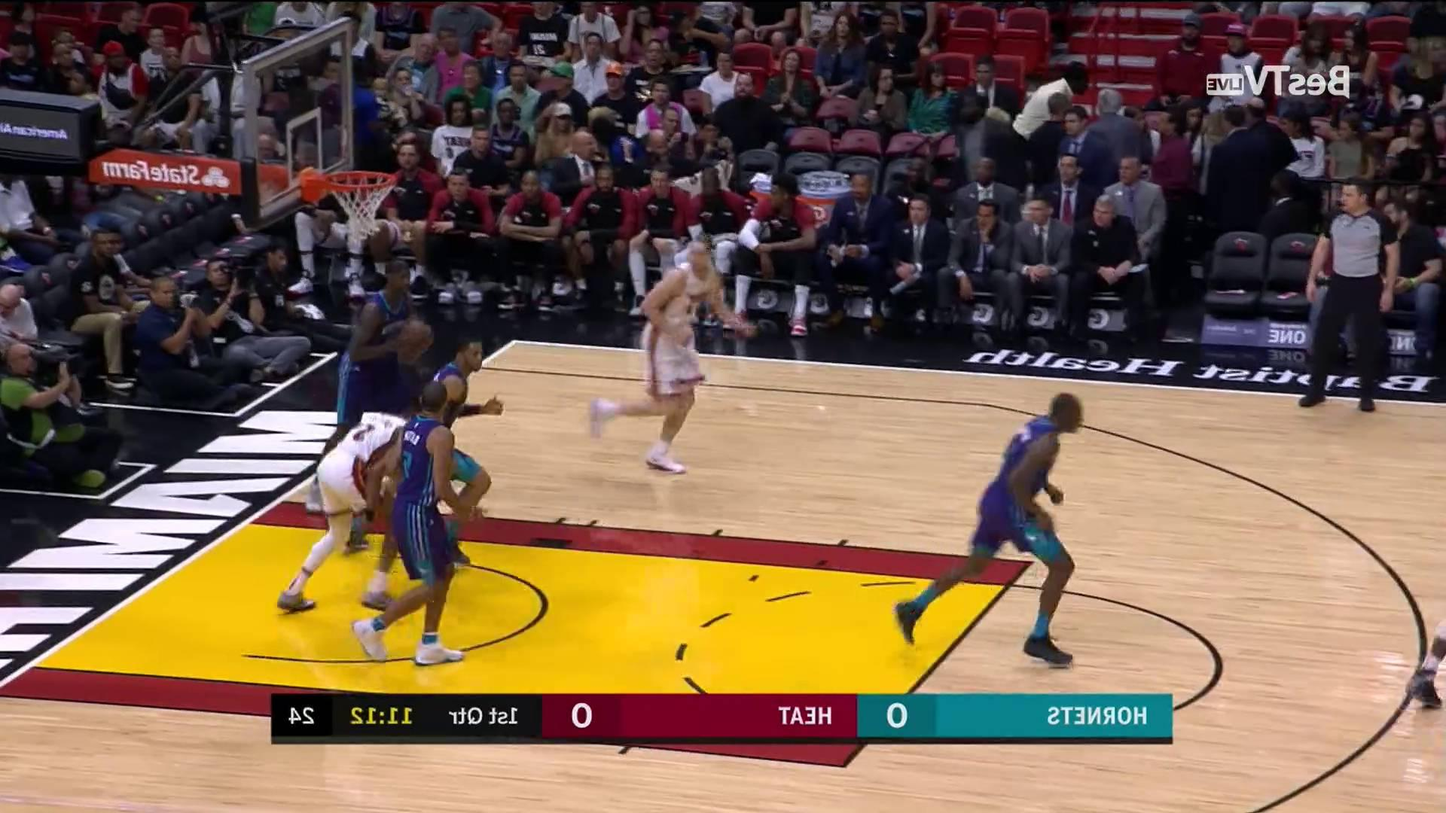basketball: (401, 318, 428, 353)
